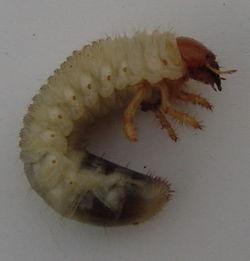grub: (20, 28, 243, 230)
